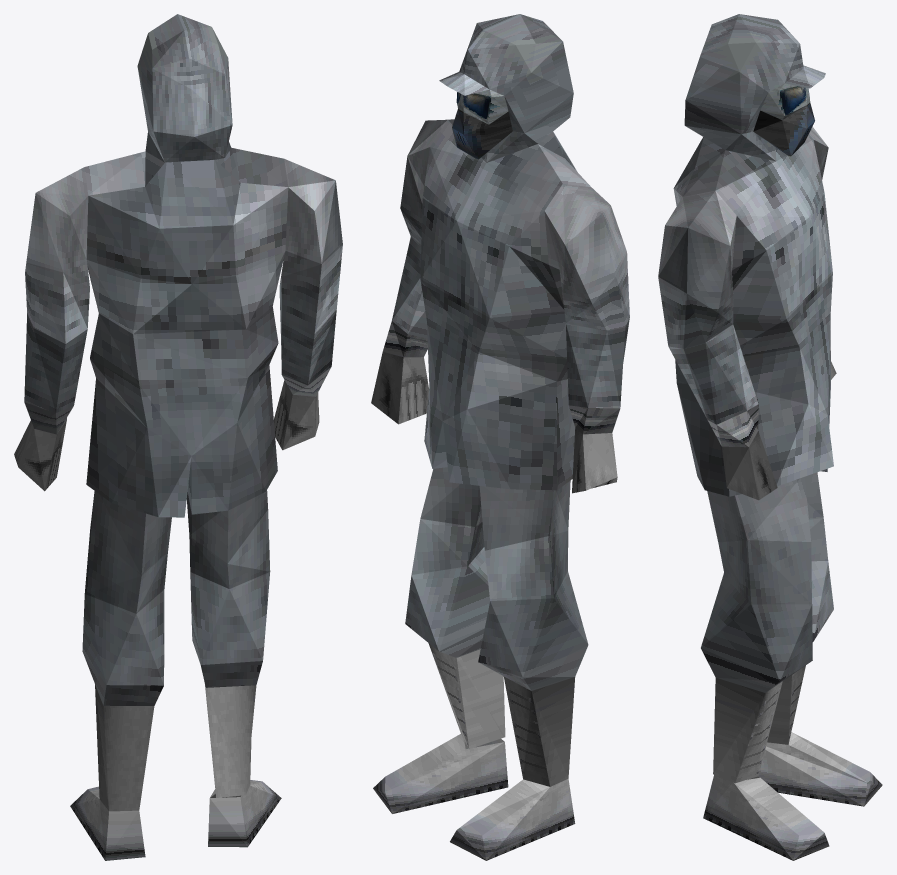
The model's file is primary_037.glb.
3 renders of one model, left to right at view 1: azimuth 30°, elevation 25°; view 2: azimuth 150°, elevation 25°; view 3: azimuth 270°, elevation 25°, orthographic. The views are drawn at different scales.
Parts seen in each view (by area): view 1: Object; view 2: Object; view 3: Object.
Boxes of the visible parts, bbox=[...] form: Object: bbox=[14, 14, 342, 860]; Object: bbox=[371, 14, 629, 860]; Object: bbox=[658, 14, 882, 860].
Bounding box in the file's own units: 0.7397 × 2.08 × 0.5355.
Materials: 71 (71 with a texture image).
